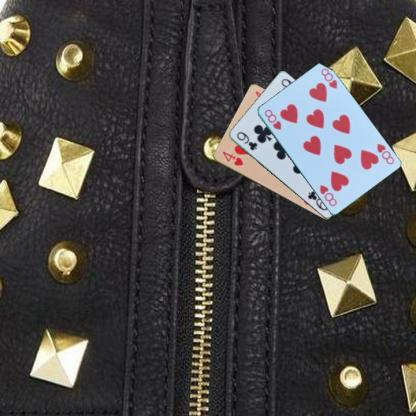4h: (220, 148, 244, 167)
8h: (374, 141, 395, 166), (262, 107, 282, 131)
9c: (234, 129, 258, 151)
